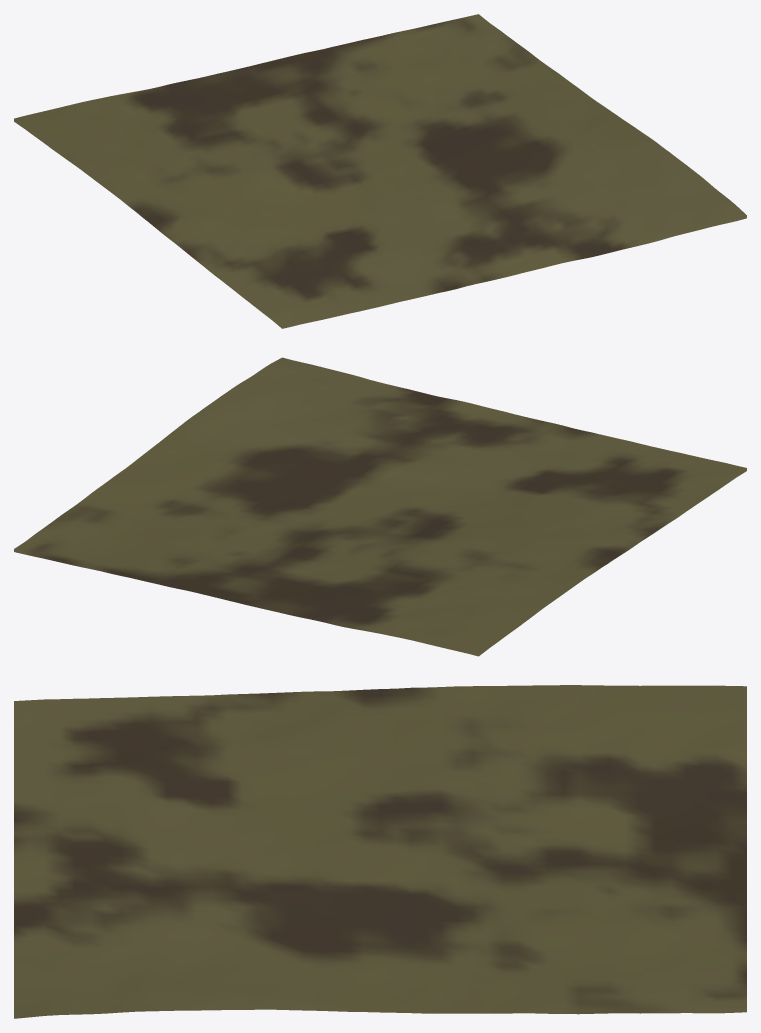
The model's file is land_m_03_01.glb.
3 renders of one model, top to bottom at view 1: azimuth 30°, elevation 25°; view 2: azimuth 150°, elevation 25°; view 3: azimuth 270°, elevation 25°, orthographic. The views are drawn at different scales.
Visible parts, largest first — view 1: land_m_03_01; view 2: land_m_03_01; view 3: land_m_03_01.
Part boxes in pixels (x1,y1,x2,y2): land_m_03_01: (14,14,746,328); land_m_03_01: (14,357,746,656); land_m_03_01: (14,685,746,1018).
Size of the model in its own units: 960 by 36.95 by 960.
